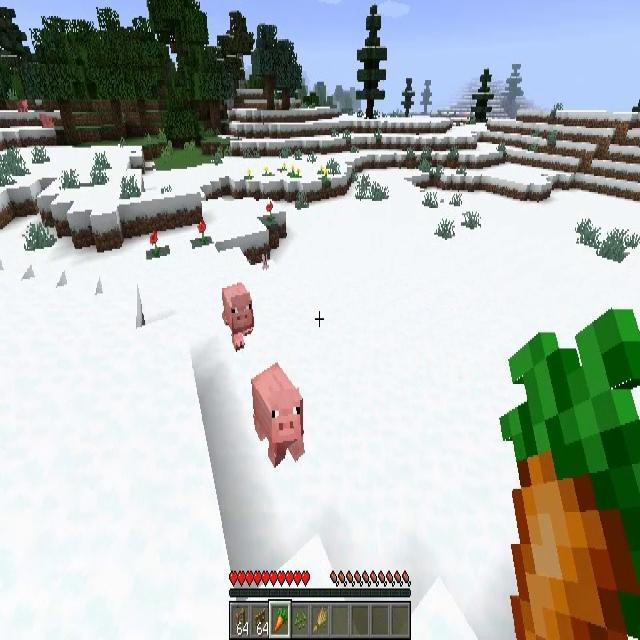pig: (251, 362, 306, 464), (220, 283, 254, 351)
